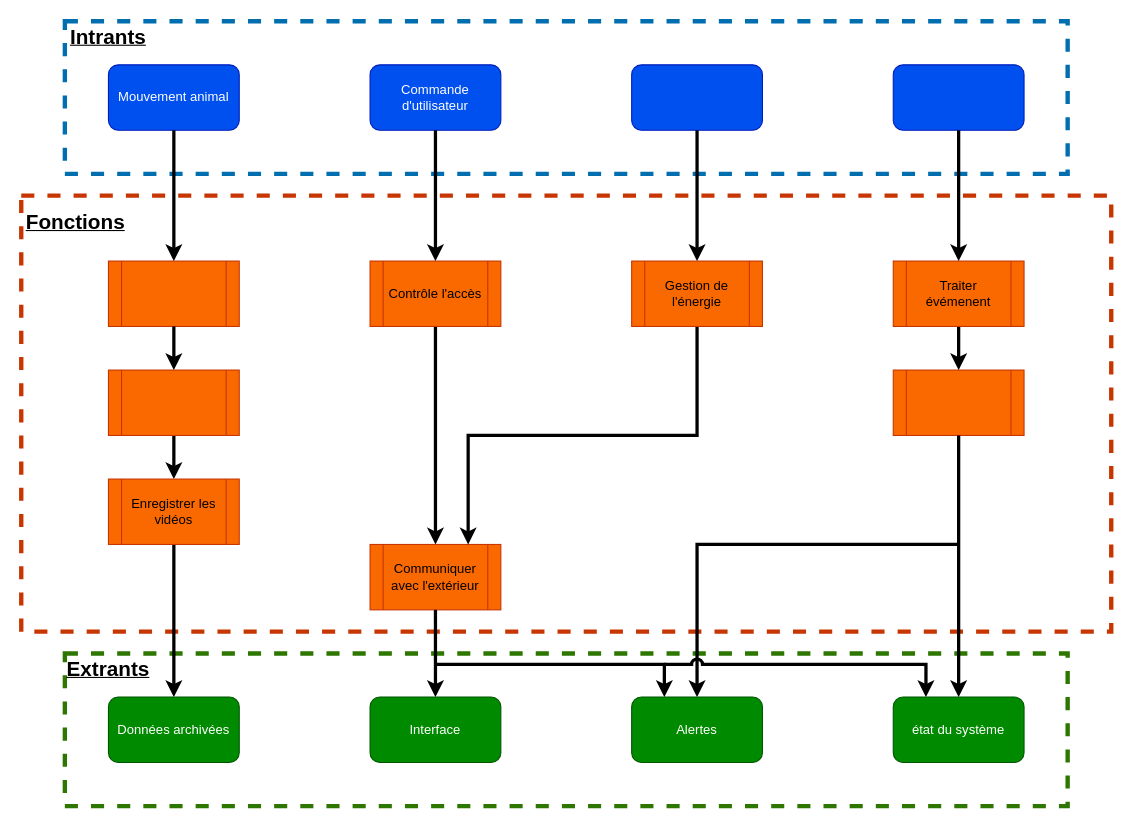
This 1131x826 diagram has some shape labels left out. The shapes that lost their labels are listed below. From the top down, each one's centre as x and y in pixels, then its label:
At (696,97): "Source d'énergie".
At (958,97): "Évenement système".
At (173,293): "Détecter mouvement".
At (173,402): "Prendre une Vidéo".
At (958,402): "Déterminer l'alerte".
